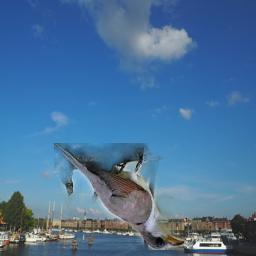Cuckoo: (54, 143, 184, 250)
